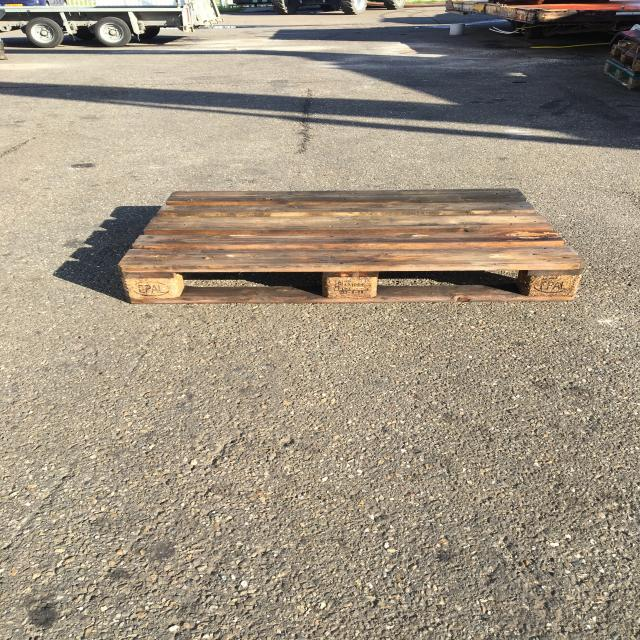block: (118, 269, 186, 304), (324, 271, 381, 304), (524, 273, 578, 302)
front: (110, 263, 587, 306)
